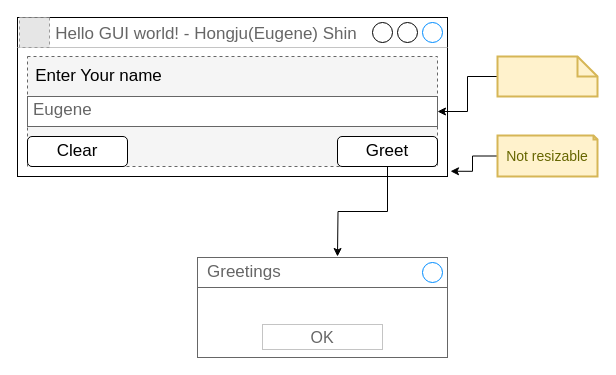
The diagram is 616 pixels wide and 375 high, and some of its shapes have lost their labels. Grey dashed boxes stand in for pictures. The centre of each missing label's shape, as x and y in pixels:
10px padding: [547,76]
Hello Eugene!: [322,307]
